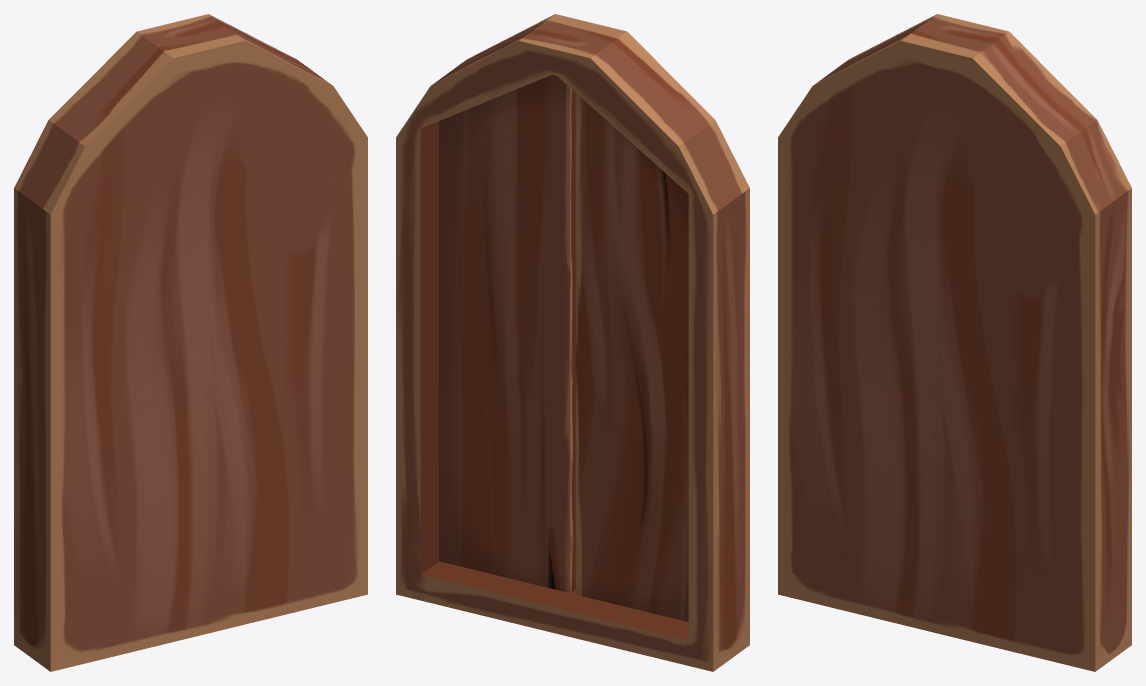
Rendered from window02.fbx.
3 views of the same model, side by side, from view 1: azimuth 30°, elevation 25°; view 2: azimuth 150°, elevation 25°; view 3: azimuth 330°, elevation 25° (orthographic).
Visible parts, largest first — view 1: window02; view 2: window02; view 3: window02.
Boxes of the visible parts, x1=… form: window02: x1=14, y1=14, x2=367, y2=671; window02: x1=396, y1=14, x2=749, y2=671; window02: x1=778, y1=14, x2=1131, y2=671.
Size of the model in its own units: 100 by 176 by 20.
